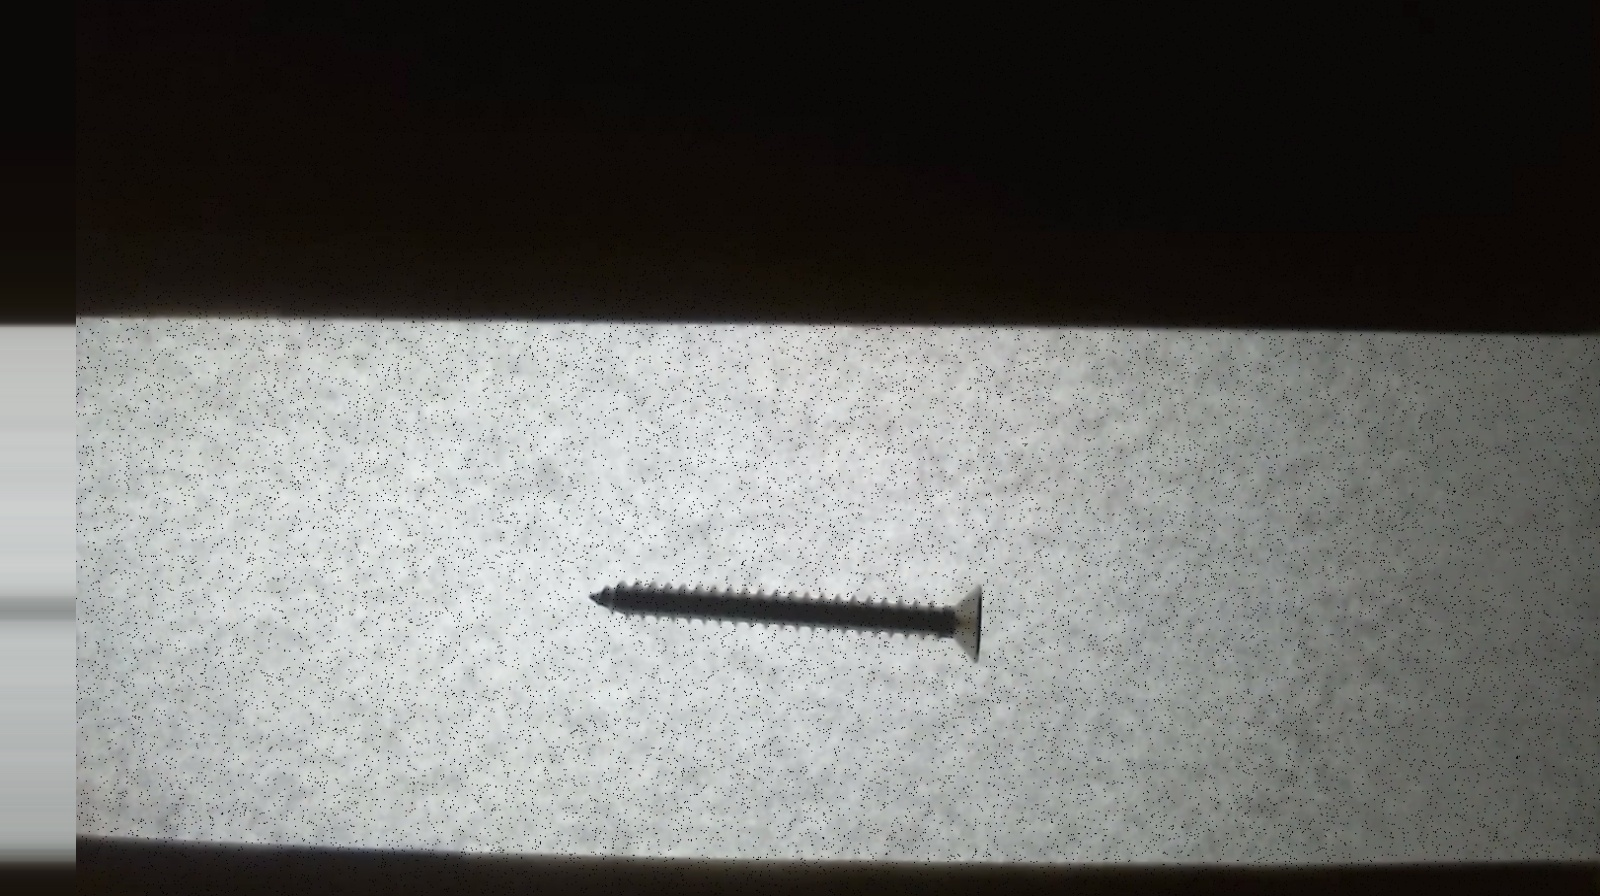S002: (564, 560, 1011, 668)
